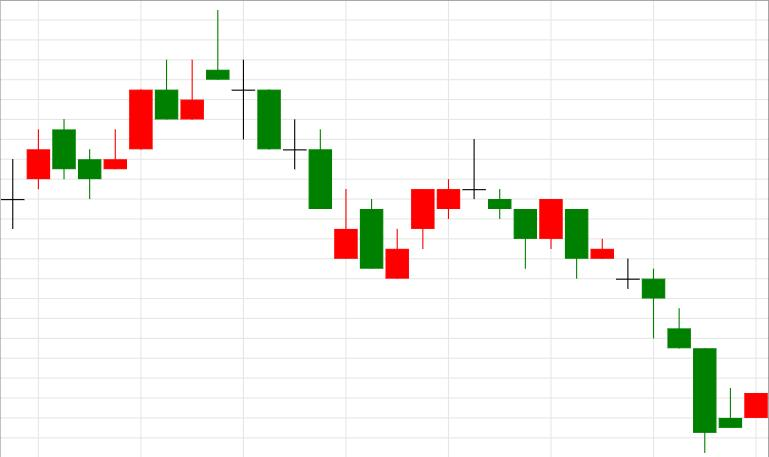inverse_hammer_rise: (207, 8, 357, 259)
